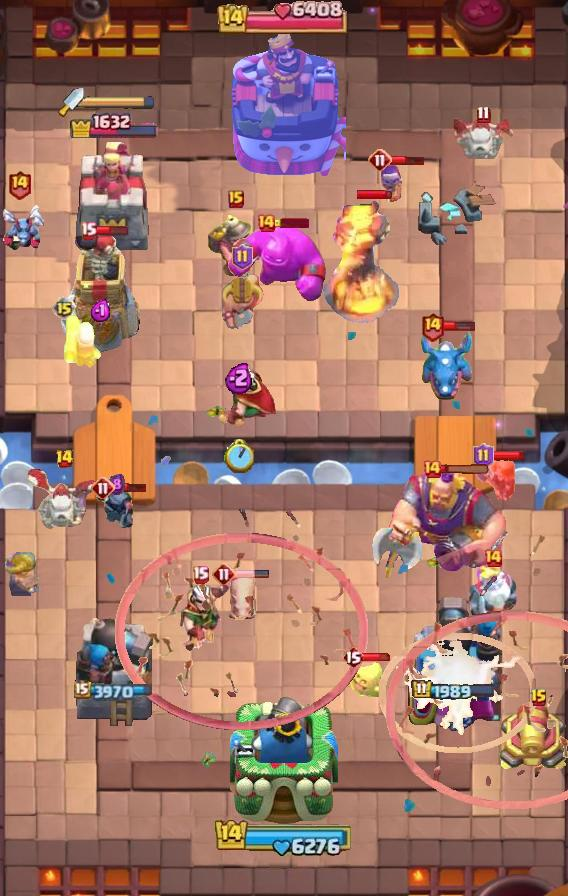bandit: (205, 207, 267, 279)
bar: (73, 140, 155, 256)
barbarian-evolution: (380, 632, 536, 754)
bat-evolution: (346, 660, 386, 698)
battle-ram: (94, 484, 138, 532)
clock: (214, 817, 354, 857), (217, 0, 351, 34)
clone: (226, 222, 334, 304)
electro-dragon: (323, 198, 401, 326)
electro-spirit: (225, 362, 254, 394), (90, 299, 112, 323), (107, 473, 125, 496)
elixir: (224, 439, 254, 473)
emote: (439, 465, 491, 476), (357, 189, 393, 201), (94, 224, 130, 236), (441, 320, 475, 332), (390, 154, 426, 165), (112, 483, 148, 494), (491, 451, 525, 462), (273, 218, 309, 228), (234, 569, 270, 579), (361, 652, 393, 662)
giant: (224, 570, 258, 626)
goblin: (377, 164, 409, 206)
goblin-giant: (220, 274, 264, 332), (3, 551, 39, 597)
graveyard: (417, 326, 475, 402)
hog-rider: (473, 458, 517, 508)
king-tower: (222, 31, 346, 181), (230, 692, 338, 826)
king-tower-bar: (84, 95, 156, 109)
lightning: (387, 469, 508, 575)
mini-pekka: (25, 468, 103, 532), (450, 115, 516, 161)
mortar-evolution: (467, 560, 519, 628)
royal-delivery: (0, 204, 44, 250)
royal-giant: (371, 528, 423, 580)
royal-recruit: (496, 701, 568, 775)
selected: (68, 110, 159, 138), (412, 678, 497, 701), (73, 679, 154, 700)
skeleton-barrel: (115, 508, 368, 731), (384, 529, 567, 809)
skeleton-king: (166, 578, 234, 654), (200, 367, 278, 429)
text: (7, 168, 32, 199), (419, 310, 444, 341), (368, 148, 392, 172), (52, 296, 76, 320), (91, 476, 115, 500), (212, 562, 236, 586), (231, 244, 252, 270), (474, 443, 495, 469), (342, 645, 364, 669), (256, 213, 276, 233), (54, 449, 74, 469), (422, 459, 442, 479), (483, 548, 503, 568), (530, 688, 548, 708), (80, 220, 97, 239), (192, 565, 209, 583), (228, 190, 244, 208), (477, 105, 492, 123)
tombstone: (62, 312, 104, 370)
tower-bar: (404, 593, 502, 731), (71, 611, 157, 731)
zappy: (59, 232, 144, 354)
